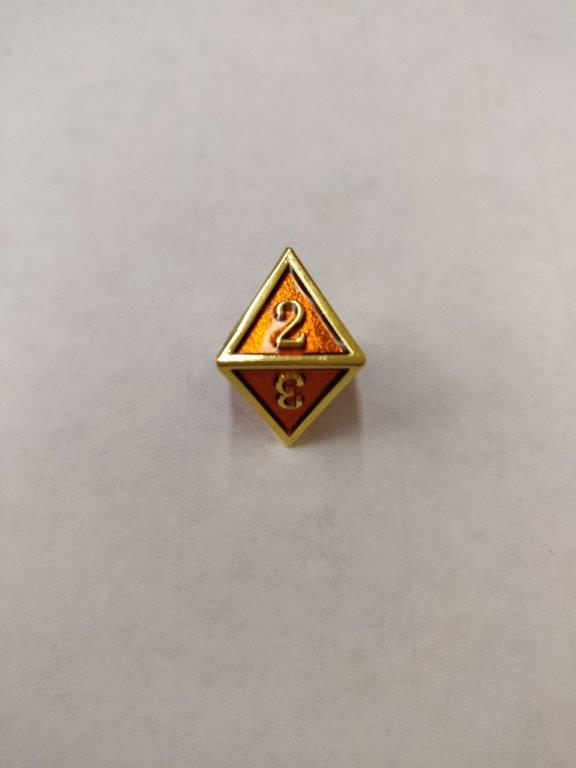d8-2: (208, 247, 365, 449)
